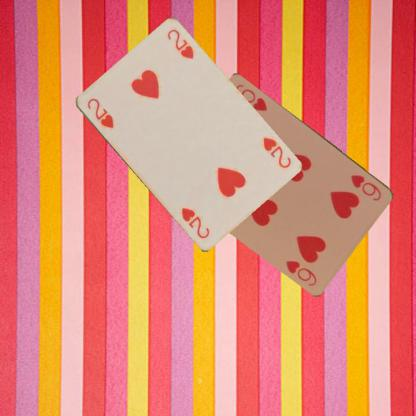2h: (260, 132, 292, 170), (83, 96, 115, 130)
6h: (348, 172, 383, 202)
